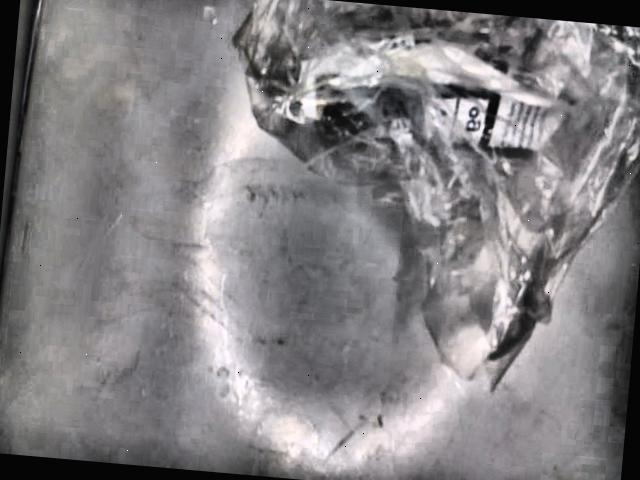Plastic: (230, 0, 640, 392)
